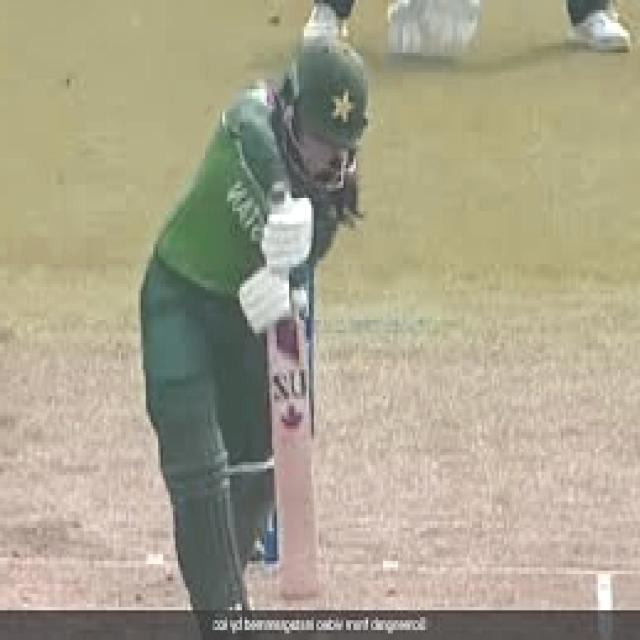toe: (269, 496, 332, 604)
